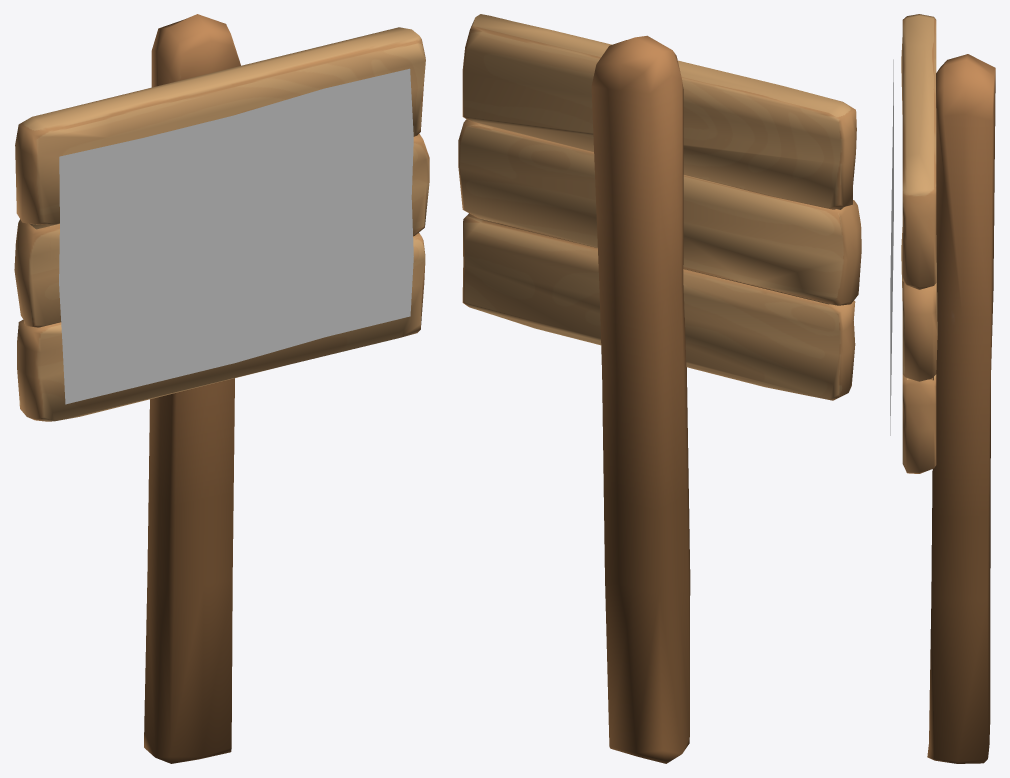
File: SignPost00.fbx
The picture shows the model from 3 angles, left to right: view 1: azimuth 30°, elevation 25°; view 2: azimuth 150°, elevation 25°; view 3: azimuth 270°, elevation 25°; orthographic projection. The views are drawn at different scales.
Parts seen in each view (by area): view 1: Plane.004, SignPost.001; view 2: SignPost.001; view 3: SignPost.001, Plane.004.
Boxes of the visible parts, box(x1,y1,x2,y2) form: Plane.004: box(59, 68, 413, 404); SignPost.001: box(14, 14, 429, 763); SignPost.001: box(458, 14, 861, 763); SignPost.001: box(901, 14, 995, 763); Plane.004: box(890, 59, 893, 435).
Size of the model in its own units: 0.4976 by 0.8524 by 0.1167.
